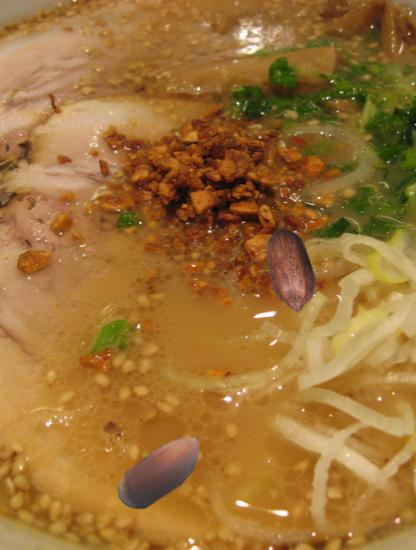Hazelnut: (111, 423, 211, 523)
Nut: (246, 226, 335, 315)
